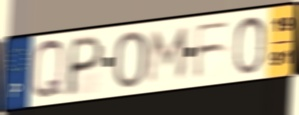F: (192, 18, 233, 82)
M: (145, 26, 192, 87)
O: (231, 13, 268, 77), (112, 29, 149, 91)
P: (64, 33, 107, 98)
Q: (29, 37, 67, 103)
